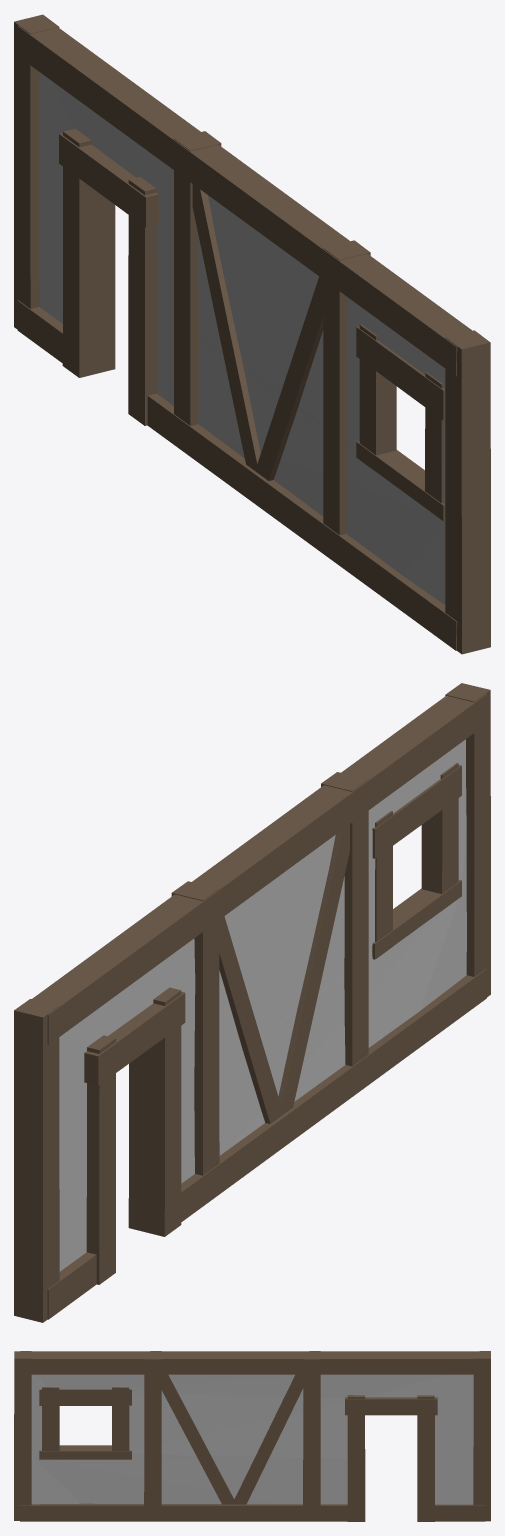
Rendered from EA03_Village_Hut_Wall_Front_04e.glb.
3 views of the same model, one above another, from view 1: azimuth 30°, elevation 25°; view 2: azimuth 150°, elevation 25°; view 3: azimuth 270°, elevation 25° (orthographic). The views are drawn at different scales.
Visible parts, largest first — view 1: EA03_Village_Hut_Wall_Front_04e; view 2: EA03_Village_Hut_Wall_Front_04e; view 3: EA03_Village_Hut_Wall_Front_04e.
Boxes of the visible parts, left/top/right/bottom form: EA03_Village_Hut_Wall_Front_04e: left=14, top=14, right=490, bottom=654; EA03_Village_Hut_Wall_Front_04e: left=14, top=683, right=490, bottom=1322; EA03_Village_Hut_Wall_Front_04e: left=14, top=1351, right=490, bottom=1521.
Bounding box in the file's own units: 0.3984 × 2.98 × 7.93.
Materials: 1 (1 with a texture image).
